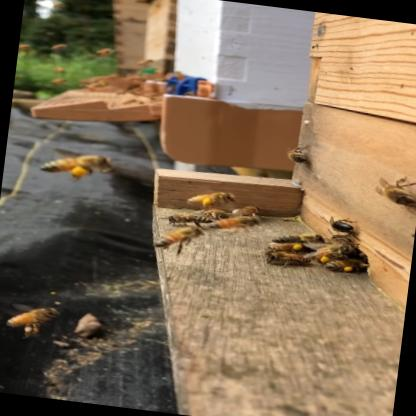bee: (259, 215, 402, 283), (13, 132, 133, 194), (0, 288, 97, 347), (157, 220, 228, 257), (369, 168, 416, 222), (274, 144, 322, 170)
